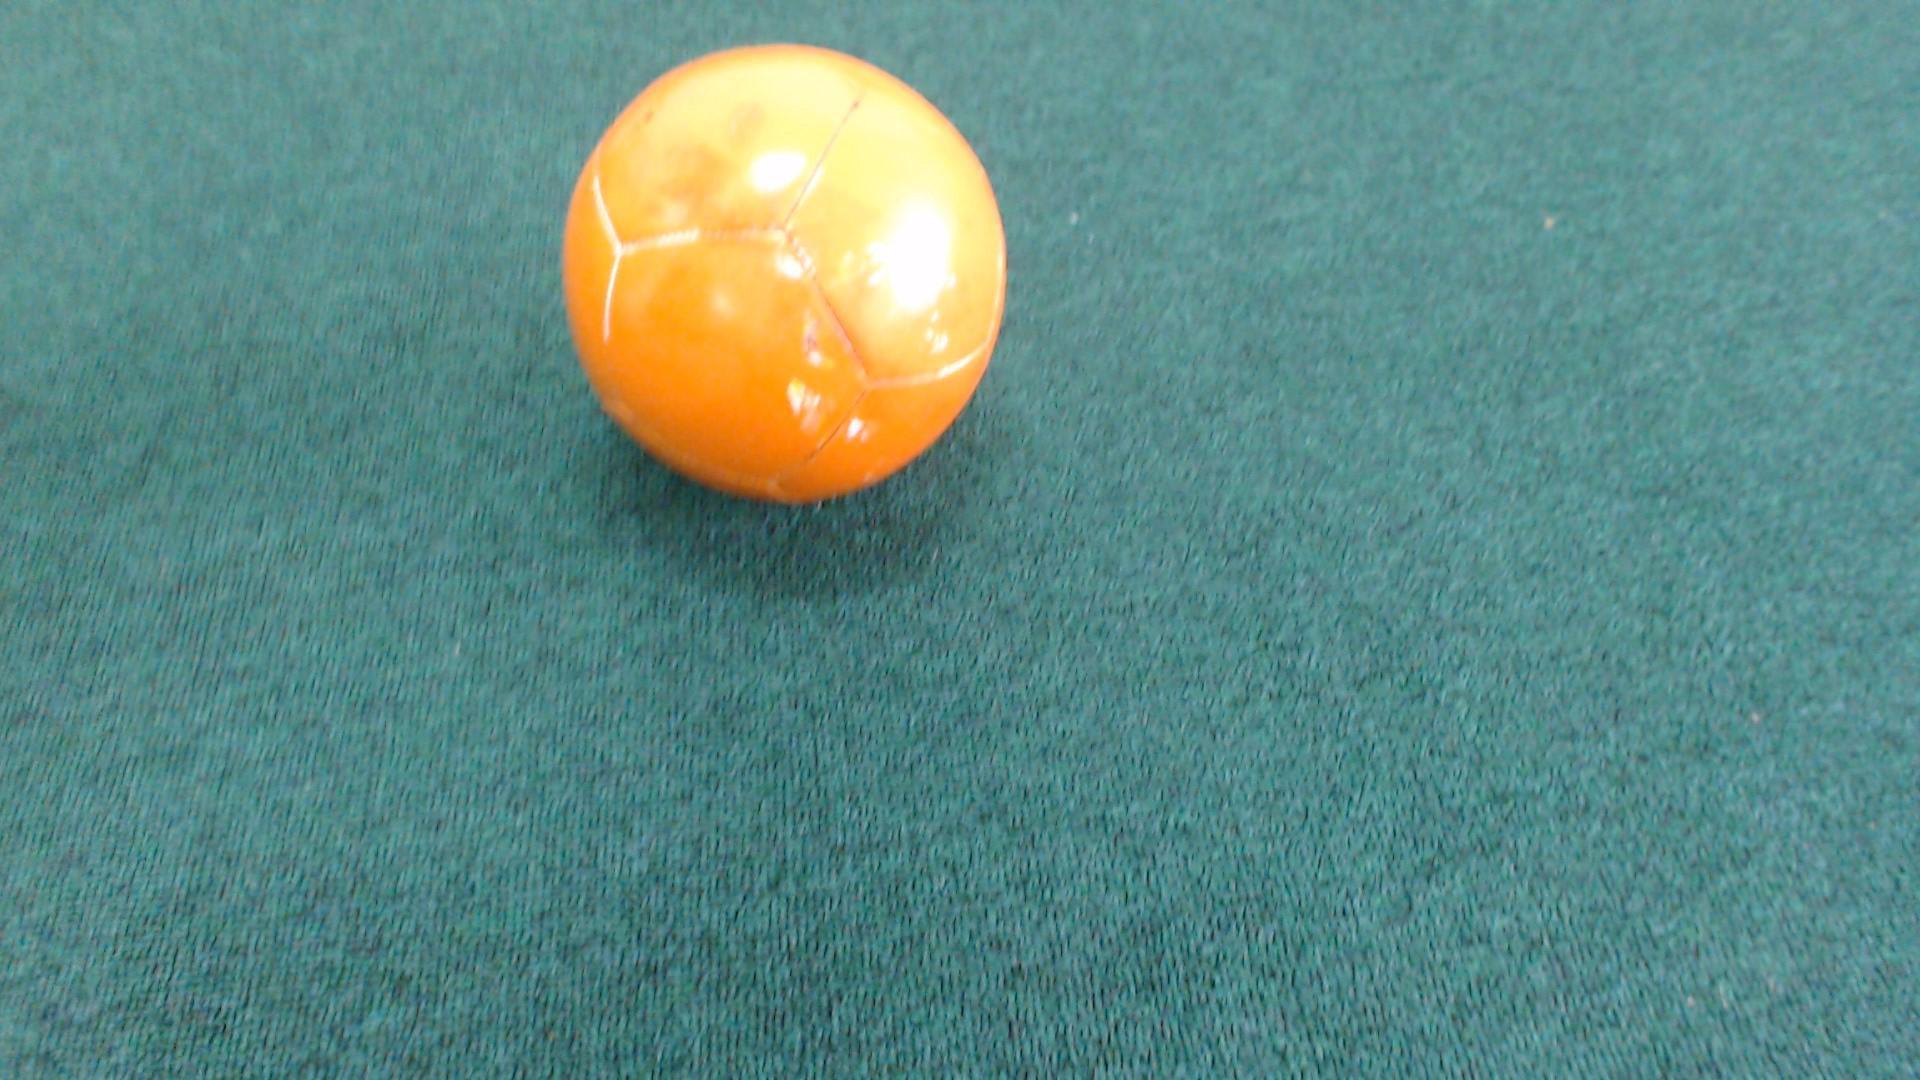bola: (538, 40, 1023, 533)
